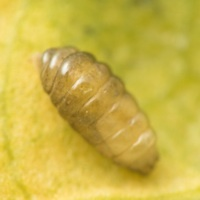insect: (41, 47, 157, 173)
